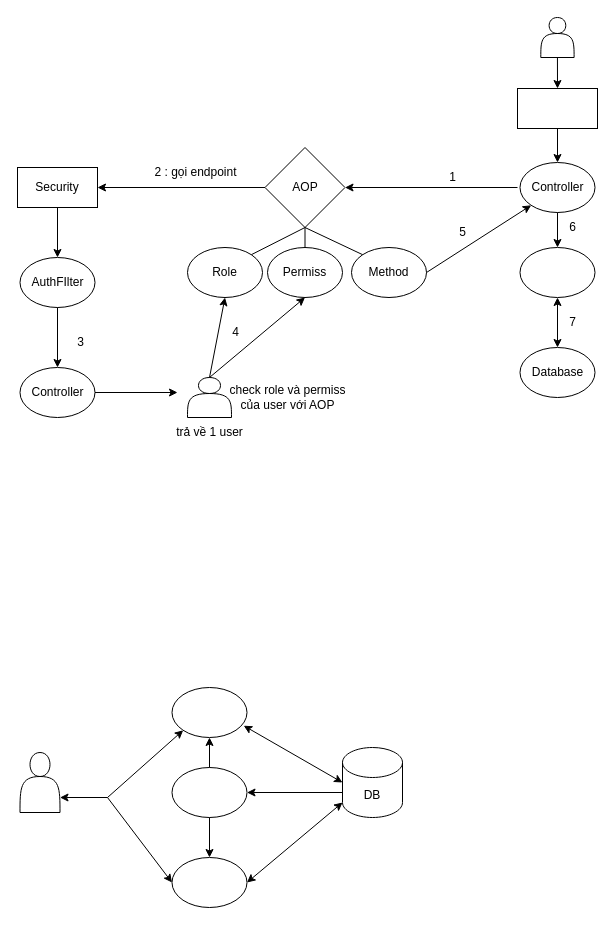
The diagram is 615 pixels wide and 925 high, and some of its shapes have lost their labels. The centre of each missing label's shape, as x and y in pixels:
redis: (209,792)
Service: (557,272)
service A: (209,712)
service A': (209,882)
Students: (557,108)
